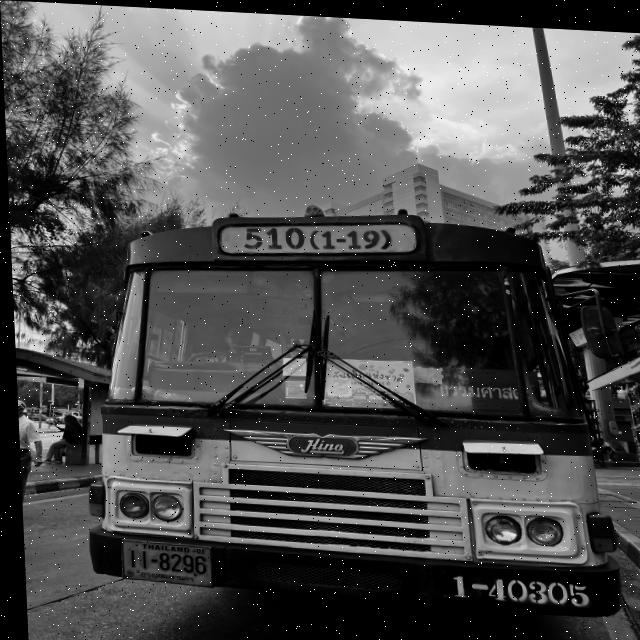BMTA-bus: (70, 190, 618, 617)
Bus-Line-Number: (221, 217, 404, 253)
Destination-Sign-Normal: (412, 361, 545, 412)
